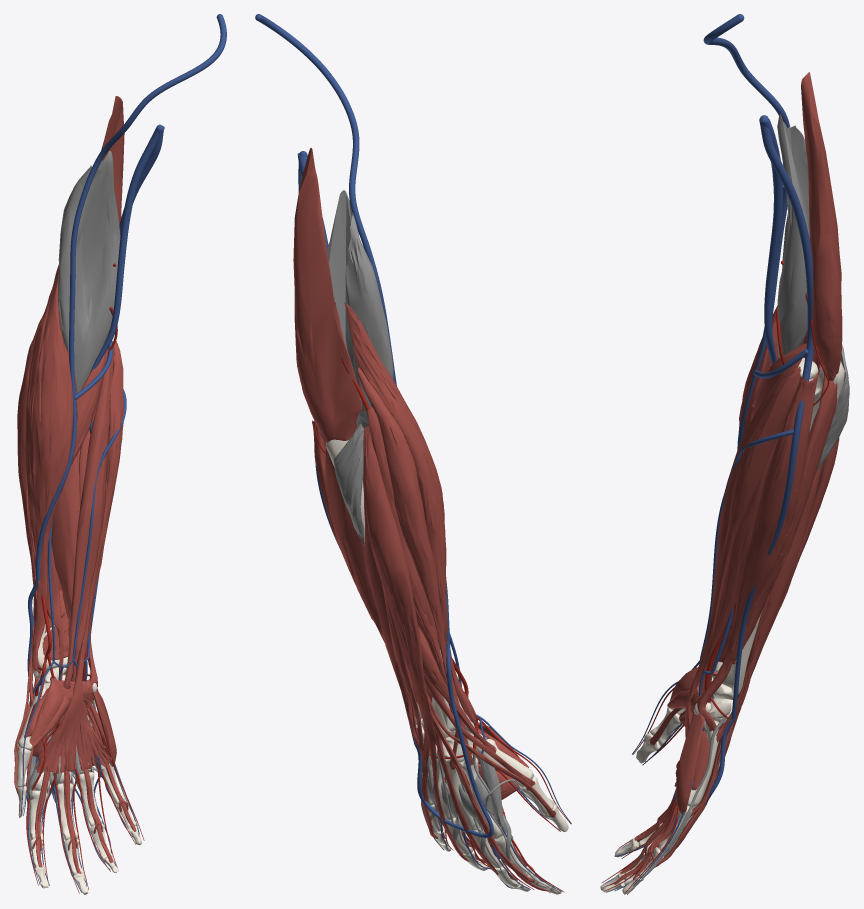
File: hand_elbow_right.glb
3 renders of one model, left to right at view 1: azimuth 30°, elevation 25°; view 2: azimuth 150°, elevation 25°; view 3: azimuth 270°, elevation 25°, orthographic. The views are drawn at different scales.
Visible parts, largest first — view 1: right brachioradialis, right brachialis, right palmaris longus, right flexor carpi radialis, right cephalic vein, right flexor digitorum superficialis.001, right flexor digitorum superficialis, right medial brachial vein, right extensor carpi radialis longus, medial head of right triceps brachii, right flexor digitorum profundus, humeral head of right pronator teres (+10 smaller); view 2: medial head of right triceps brachii, right extensor digitorum, right brachioradialis, right brachialis, right extensor carpi radialis longus, right cephalic vein, ulnar head of right flexor carpi ulnaris, right extensor carpi radialis brevis, right anconeus, right extensor carpi ulnaris, musculature.004, right abductor pollicis longus (+6 smaller); view 3: humeral head of right flexor carpi ulnaris, medial head of right triceps brachii, right brachialis, right palmaris longus, right basilic vein, ulnar head of right flexor carpi ulnaris, right flexor digitorum superficialis, right extensor carpi ulnaris, right cephalic vein, right medial brachial vein, right extensor digitorum, abductor digiti minimi of right hand (+10 smaller).
Part boxes in pixels (x1,y1,x2,y2): right brachioradialis: (25,264,78,675); right brachialis: (58,151,120,393); right palmaris longus: (35,339,123,773); right flexor carpi radialis: (63,347,113,689); right cephalic vein: (27,14,226,691); right flexor digitorum superficialis.001: (51,455,80,666); right flexor digitorum superficialis: (32,382,128,855); right medial brachial vein: (90,126,164,372); right extensor carpi radialis longus: (17,315,43,694); medial head of right triceps brachii: (101,96,124,224); right flexor digitorum profundus: (35,448,136,873); humeral head of right pronator teres: (70,348,108,466); medial head of right triceps brachii: (293,148,362,443); right extensor digitorum: (363,426,534,882); right brachioradialis: (344,302,477,726); right brachialis: (327,190,393,428); right extensor carpi radialis longus: (357,367,473,765); right cephalic vein: (255,14,472,776); ulnar head of right flexor carpi ulnaris: (325,447,384,642); right extensor carpi radialis brevis: (367,407,458,769); right anconeus: (334,424,364,544); right extensor carpi ulnaris: (362,426,419,749); musculature.004: (427,759,513,841); right abductor pollicis longus: (418,626,496,753); humeral head of right flexor carpi ulnaris: (696,373,818,731); medial head of right triceps brachii: (801,72,842,380); right brachialis: (777,114,809,357); right palmaris longus: (674,366,800,802); right basilic vein: (731,115,813,719); ulnar head of right flexor carpi ulnaris: (729,373,837,662); right flexor digitorum superficialis: (645,368,805,861); right extensor carpi ulnaris: (716,462,823,742); right cephalic vein: (703,14,789,450); right medial brachial vein: (760,119,783,364); right extensor digitorum: (655,437,839,867); abductor digiti minimi of right hand: (676,712,704,814).
Size of the model in its own units: 0.2176 by 0.6738 by 0.1536.
